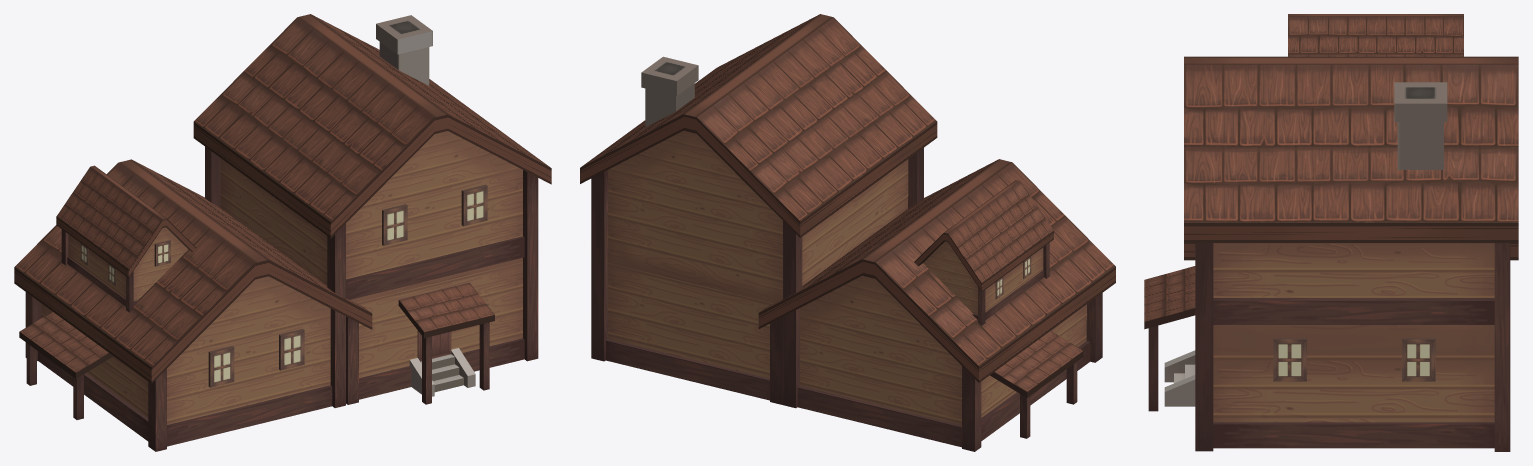
File: house_Ver3.fbx
The picture shows the model from 3 angles, left to right: view 1: azimuth 30°, elevation 25°; view 2: azimuth 150°, elevation 25°; view 3: azimuth 270°, elevation 25°; orthographic projection. The views are drawn at different scales.
Parts seen in each view (by area): view 1: house3; view 2: house3; view 3: house3.
Boxes of the visible parts, x1,y1,x2,y2 form: house3: (14,14,551,451); house3: (580,14,1115,451); house3: (1144,14,1518,451).
Size of the model in its own units: 1023 by 635 by 646.
